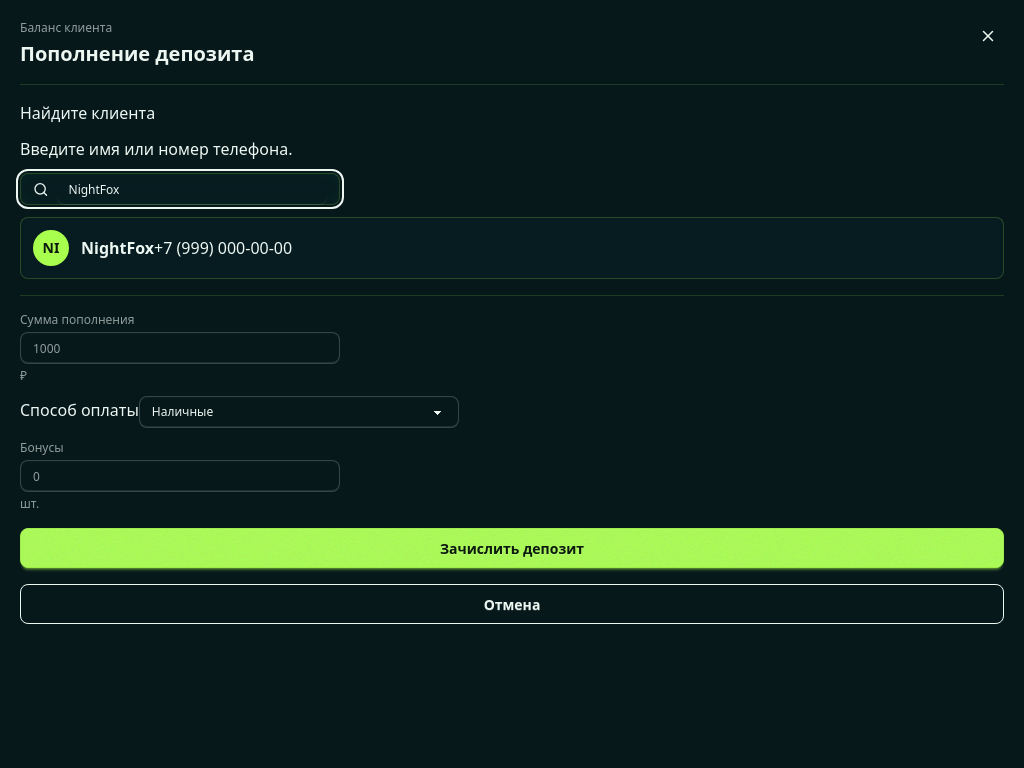
Test: Пополнение депозита › предзаполняет текущего клиента из карточки игрового места
Expected: the text "NightFox" is shown once, [81,237,154,259]
Expected: the button "Зачислить депозит" is enabled, [20,528,1004,568]
Clear the field named "Ник или номер телефона" at (192, 189), box [56,174,327,204]
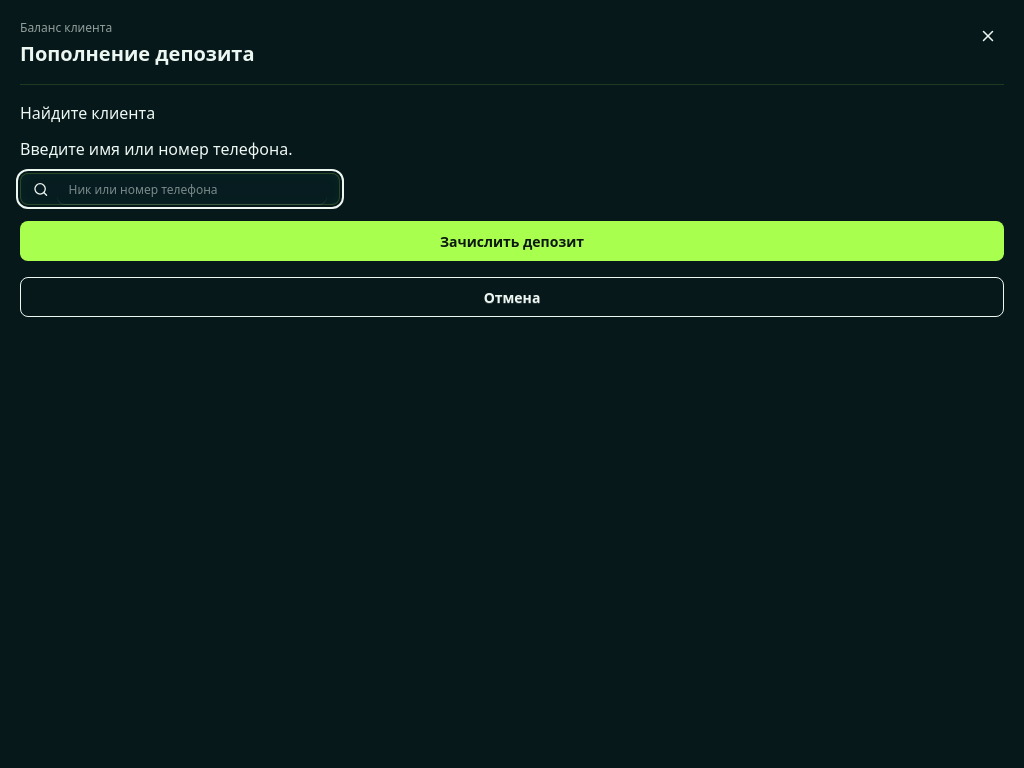
Expected: the button "Зачислить депозит" is disabled, [20,221,1004,261]
